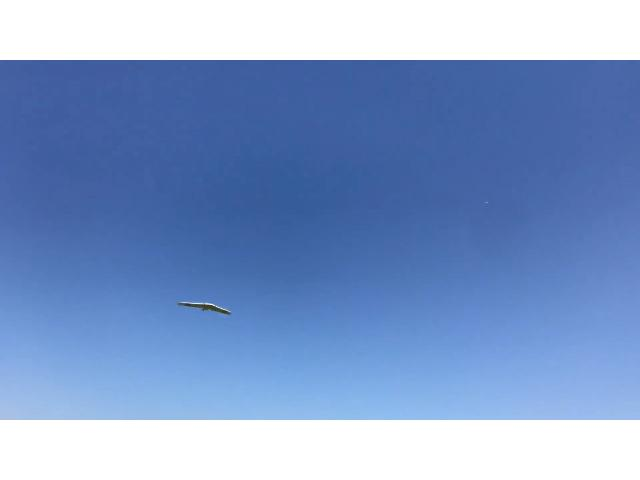Anti-Drone: (168, 286, 232, 326)
